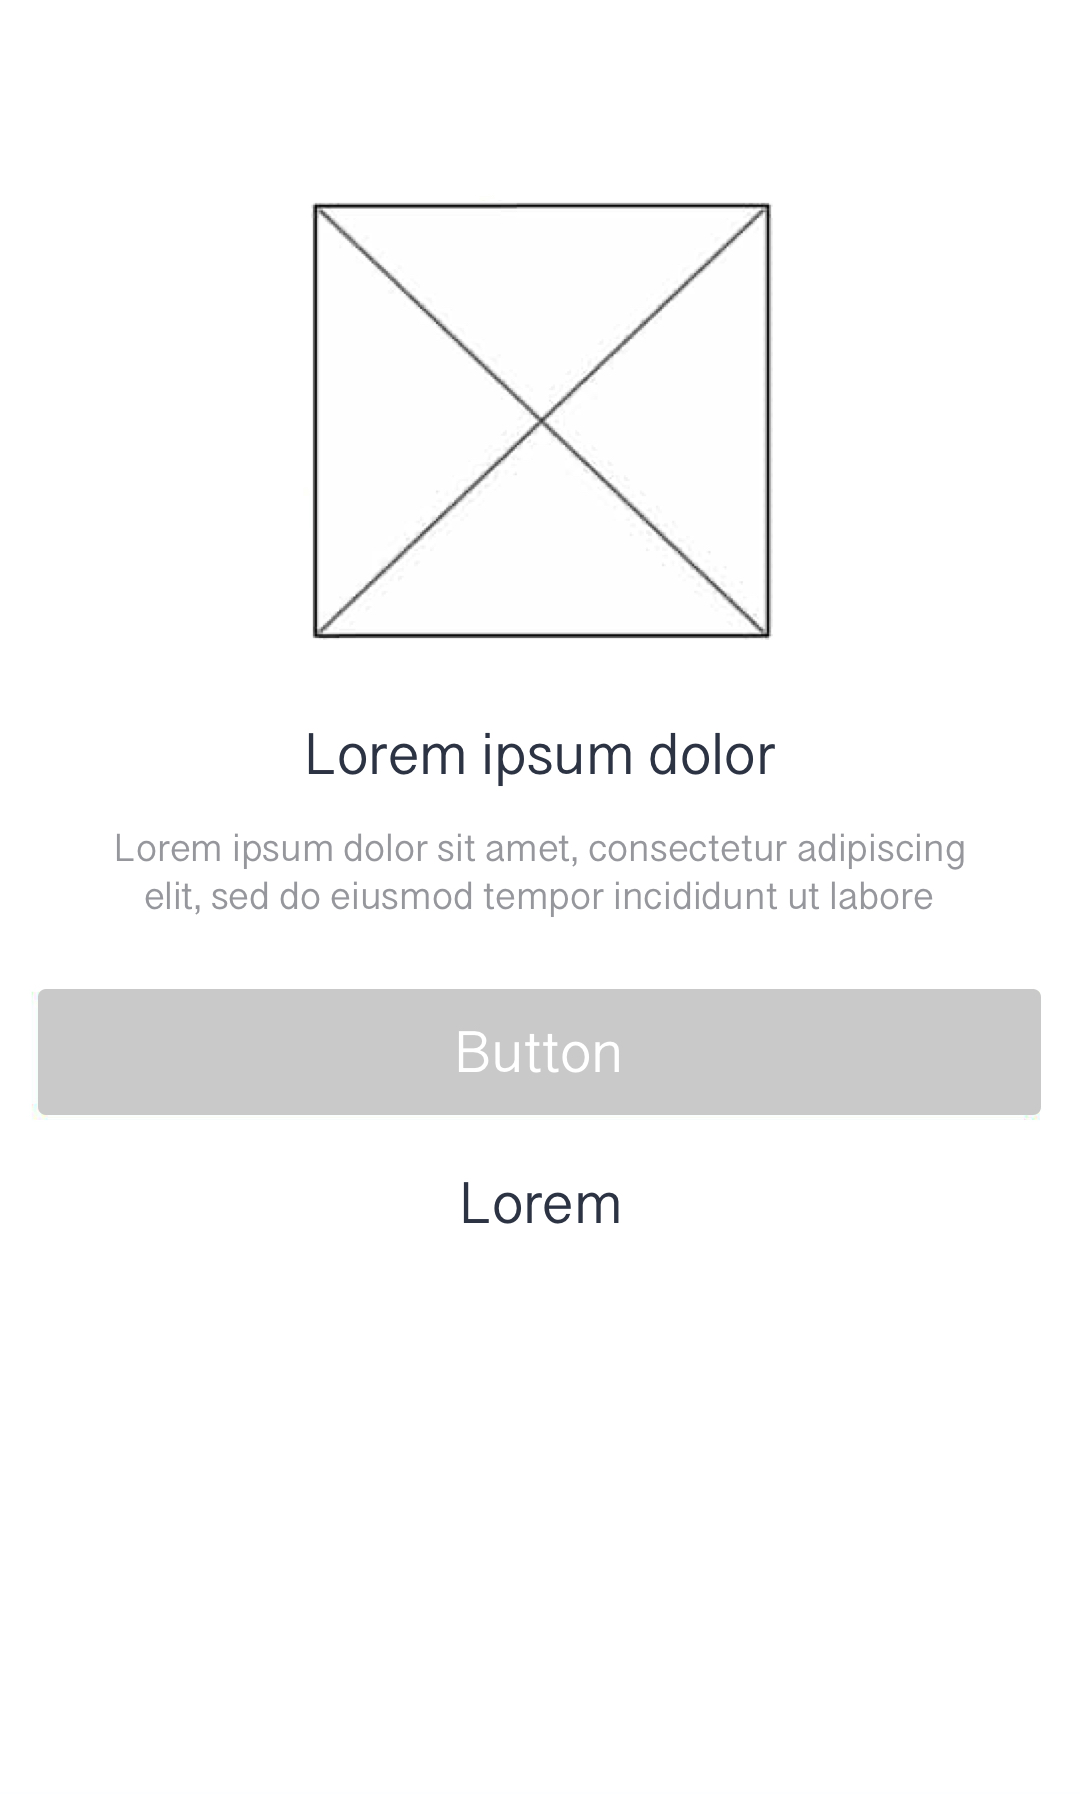Image: (311, 202, 773, 639)
Text: (117, 833, 965, 918), (307, 733, 776, 788), (462, 1181, 621, 1225)
TextButton: (38, 988, 1042, 1116)
